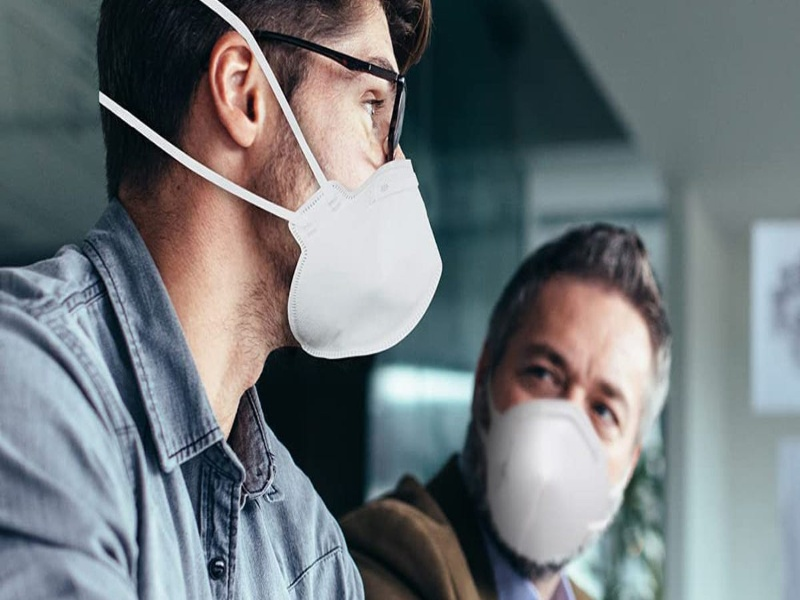mask: (288, 158, 445, 361), (484, 398, 614, 567)
